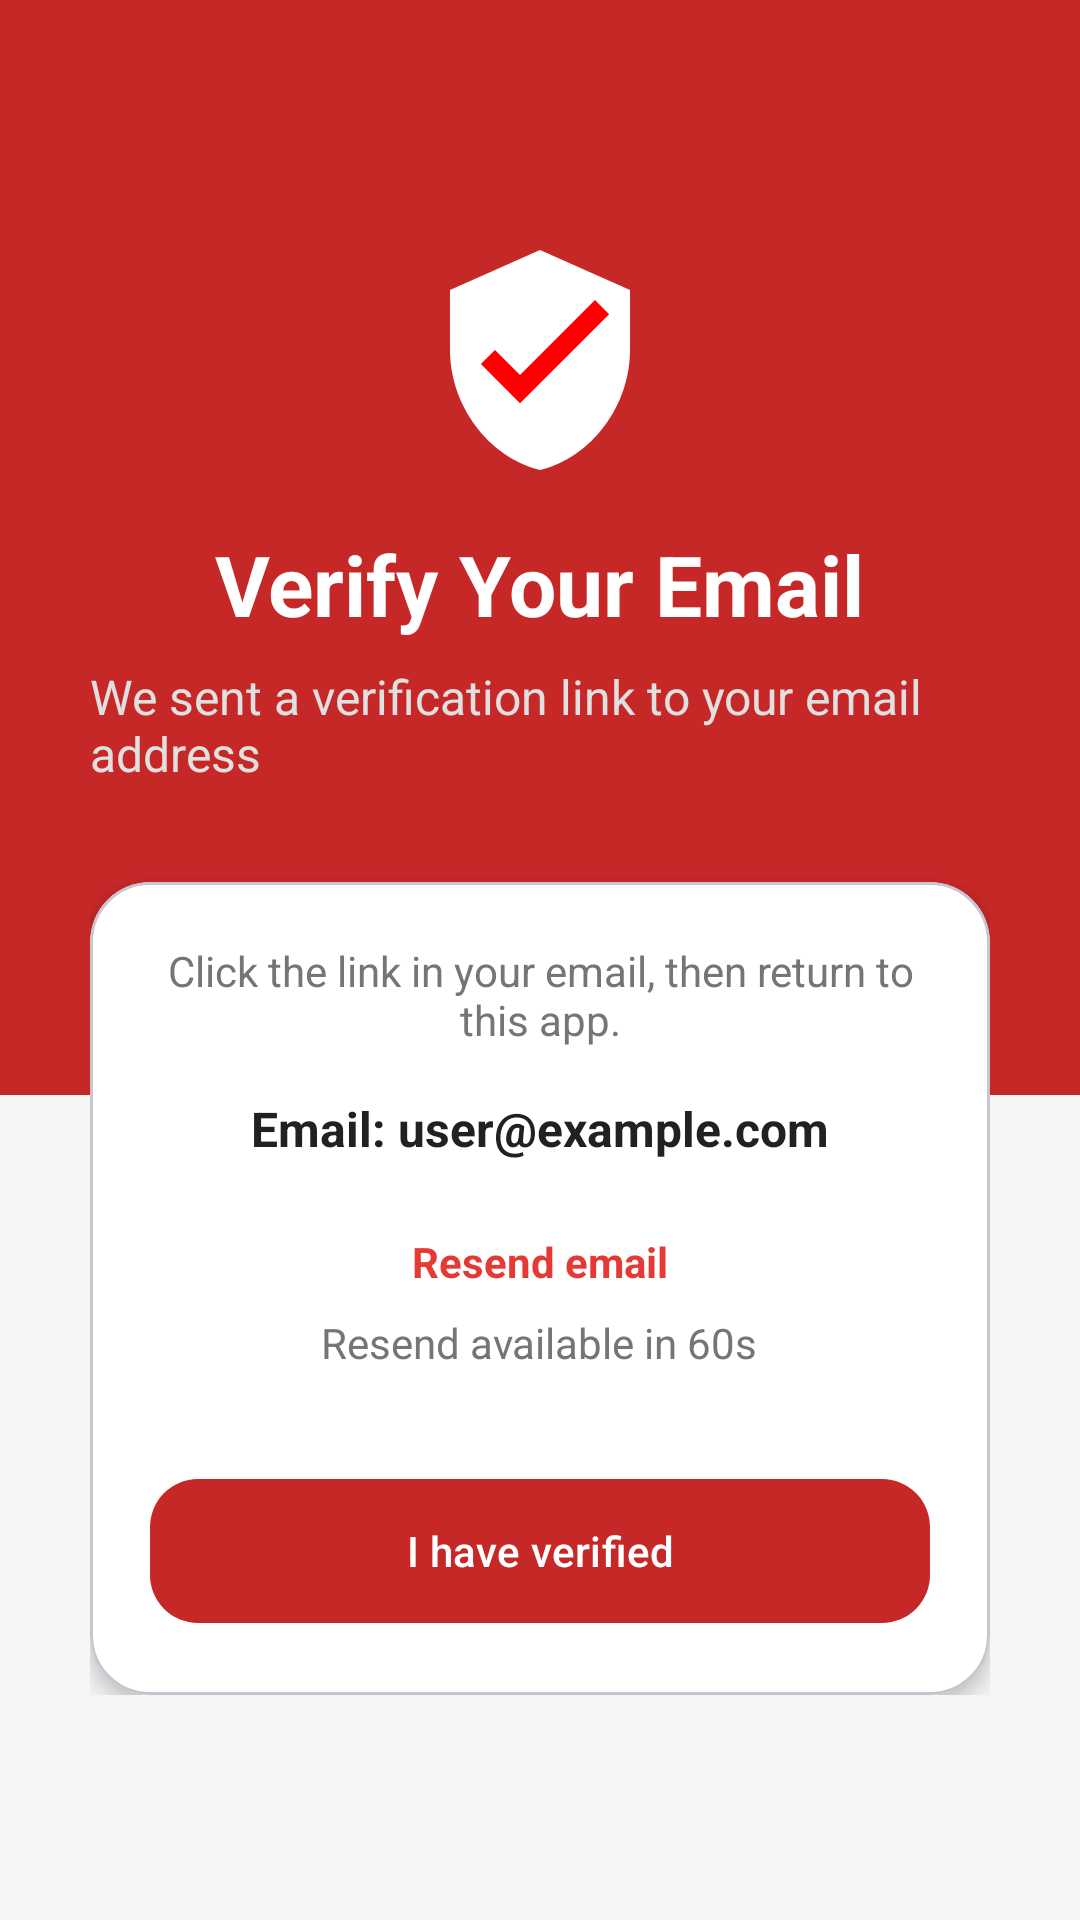

Where to tap for icons on this 1080×1920 app screen, as (x=x, y=y):
Verification shield icon: (x=540, y=360)
